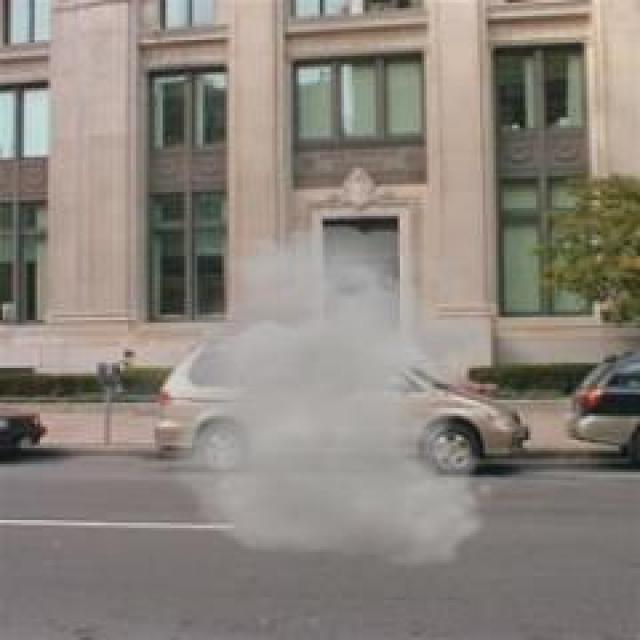Smoke: (160, 233, 478, 571)
